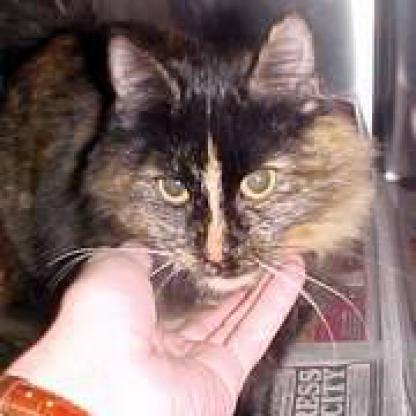cat: (86, 17, 396, 306)
